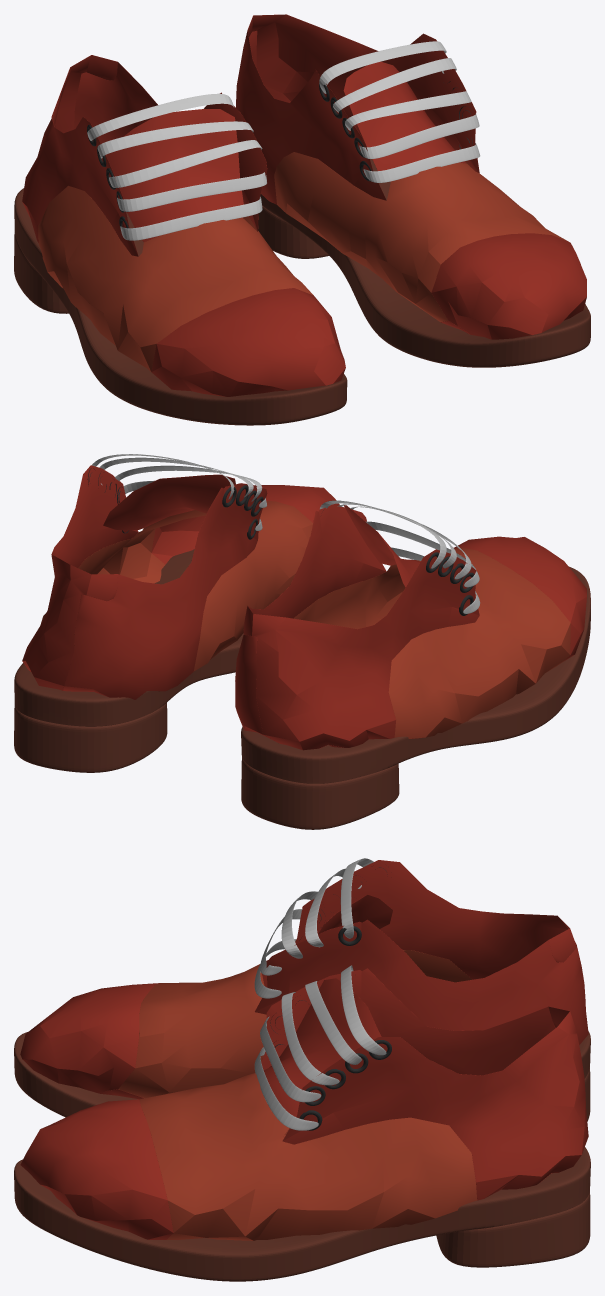
The picture shows the model from 3 angles, top to bottom: view 1: azimuth 30°, elevation 25°; view 2: azimuth 150°, elevation 25°; view 3: azimuth 270°, elevation 25°; orthographic projection. The views are drawn at different scales.
Parts seen in each view (by area): view 1: ZAPATO1_3.001, ZAPATO1_3, Plane.011, Plane, Plane.009, Plane.006, Plane.010, Plane.008, Plane.007, Plane.002, Plane.003, Plane.004 (+2 smaller); view 2: ZAPATO1_3.001, ZAPATO1_3, Plane.011, Plane, Plane.009, Plane.001, Plane.003, Plane.007; view 3: ZAPATO1_3, ZAPATO1_3.001, Plane, Plane.011, Plane.001, Plane.004, Plane.003, Plane.005, Plane.002, Plane.007, Plane.008, Plane.010.
Part boxes in pixels (bbox=[...]): ZAPATO1_3.001: bbox=[22, 55, 345, 396]; ZAPATO1_3: bbox=[236, 14, 586, 339]; Plane.011: bbox=[14, 188, 347, 425]; Plane: bbox=[258, 159, 590, 367]; Plane.009: bbox=[117, 172, 266, 211]; Plane.006: bbox=[120, 196, 262, 240]; Plane.010: bbox=[109, 140, 262, 187]; Plane.008: bbox=[97, 121, 253, 158]; Plane.007: bbox=[87, 93, 234, 140]; Plane.002: bbox=[359, 114, 479, 158]; Plane.003: bbox=[333, 58, 456, 112]; Plane.004: bbox=[319, 41, 446, 93]; ZAPATO1_3.001: bbox=[235, 505, 586, 750]; ZAPATO1_3: bbox=[22, 465, 339, 699]; Plane.011: bbox=[241, 566, 590, 829]; Plane: bbox=[14, 549, 243, 772]; Plane.009: bbox=[366, 521, 479, 587]; Plane.001: bbox=[115, 465, 262, 501]; Plane.003: bbox=[99, 457, 253, 497]; Plane.007: bbox=[320, 500, 446, 568]; ZAPATO1_3: bbox=[20, 968, 588, 1240]; ZAPATO1_3.001: bbox=[20, 860, 588, 1099]; Plane: bbox=[14, 1147, 590, 1281]; Plane.011: bbox=[14, 1031, 590, 1121]; Plane.001: bbox=[281, 992, 339, 1085]; Plane.004: bbox=[340, 965, 386, 1055]; Plane.003: bbox=[305, 981, 361, 1064]; Plane.005: bbox=[254, 1047, 318, 1130]; Plane.002: bbox=[260, 1016, 321, 1102]; Plane.007: bbox=[340, 858, 373, 938]; Plane.008: bbox=[305, 868, 361, 947]; Plane.010: bbox=[281, 891, 317, 958].
Bounding box in the file's own units: 412 × 209 × 447.
